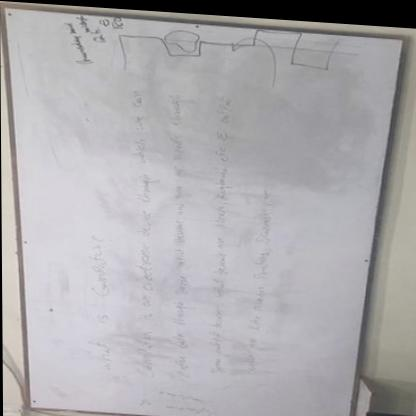Handwritten text: (122, 81, 164, 381), (197, 84, 237, 376), (165, 81, 198, 377), (237, 172, 277, 378), (81, 239, 116, 369)
Whiteboard: (0, 5, 408, 416)
